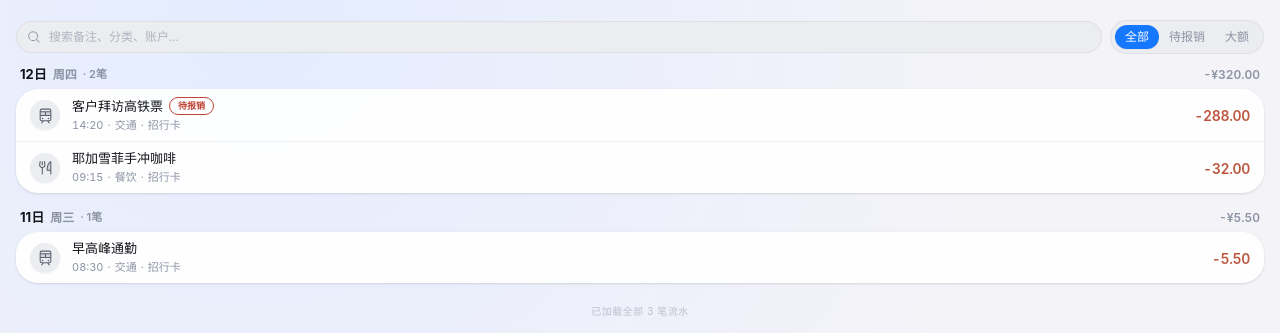
Test: TransactionGroup component › displays full specific dates in modern skin when searching
Step 1. Type "咖啡" into the field with placeholder "搜索备注、分类、账户..." → (570, 37), box [49,29,1091,45]
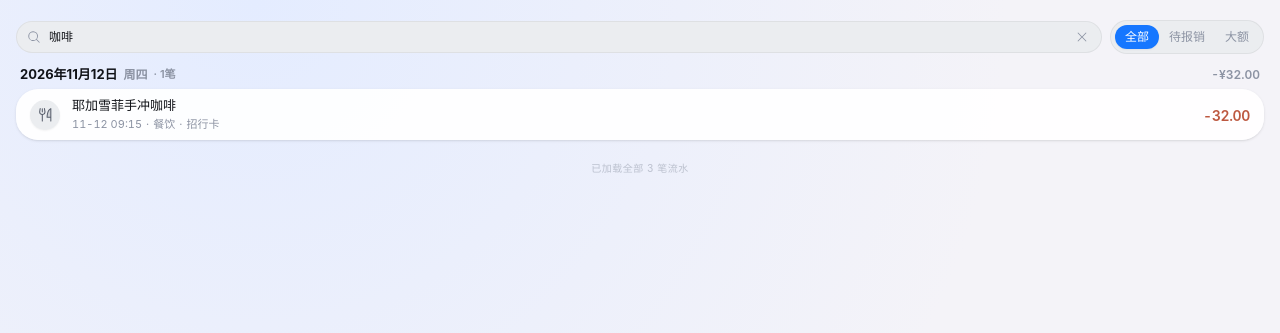
Expected: the text "耶加雪菲手冲咖啡" is shown, [72,97,176,114]
Expected: the text "2026年11月12日" is shown, [20,66,118,83]
